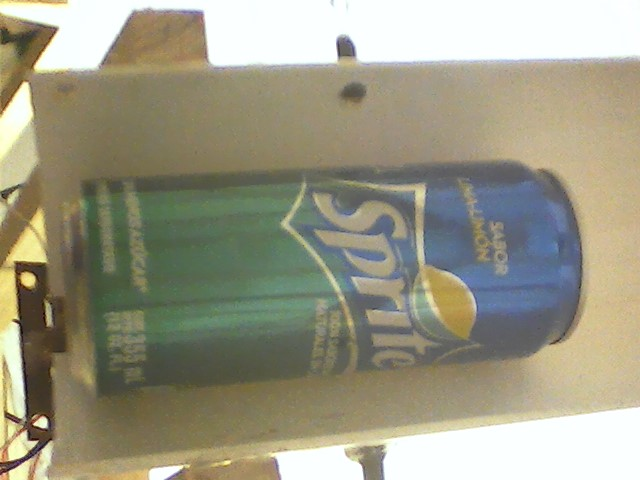lata: (54, 159, 599, 397)
